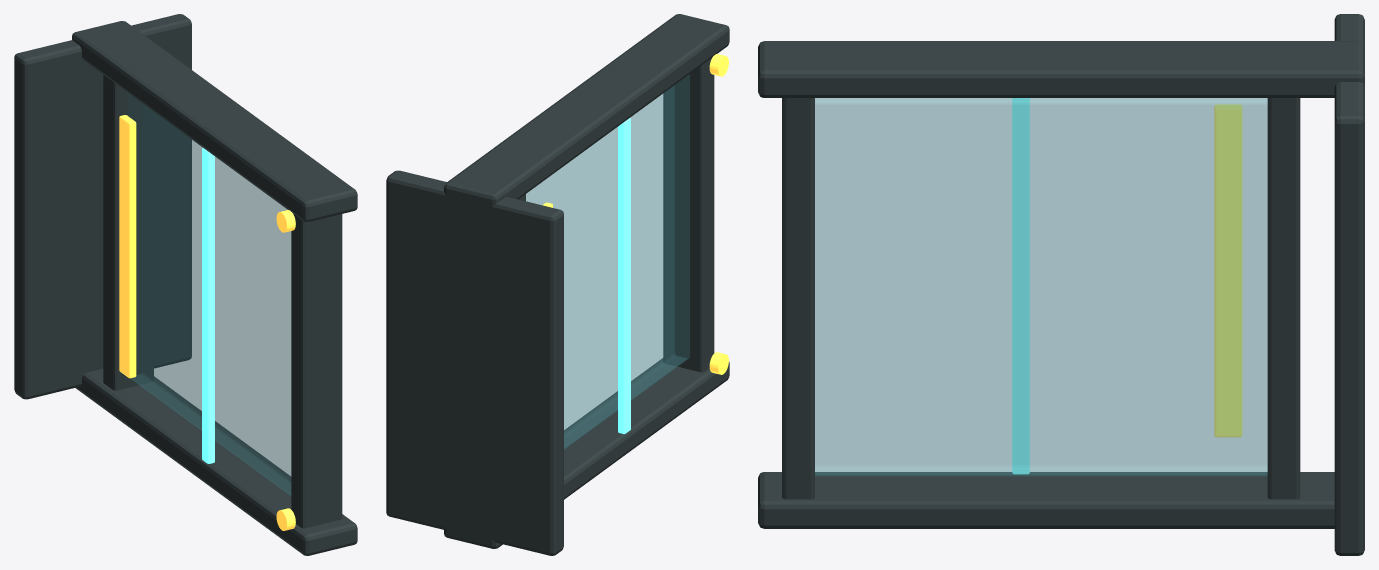
Rendered from glass_safety_gate.glb.
3 renders of one model, left to right at view 1: azimuth 30°, elevation 25°; view 2: azimuth 150°, elevation 25°; view 3: azimuth 270°, elevation 25°, orthographic. The views are drawn at different scales.
Parts seen in each view (by area): view 1: gate_floor_threshold, gate_glass, gate_post_+0, gate_rail_1.12, gate_post_-0, gate_rail_0.16, gate_warning_band, gate_scan_band; view 2: gate_floor_threshold, gate_glass, gate_post_+0, gate_rail_1.12, gate_post_-0, gate_scan_band; view 3: gate_glass, gate_post_+0, gate_post_-0, gate_floor_threshold, gate_rail_0.16, gate_rail_1.12, gate_warning_band, gate_scan_band.
Boxes of the visible parts, box(x1,y1,x2,y2) form: gate_floor_threshold: box(14, 14, 191, 399); gate_glass: box(127, 93, 291, 495); gate_post_+0: box(72, 21, 357, 222); gate_rail_1.12: box(291, 214, 342, 528); gate_post_-0: box(75, 369, 357, 555); gate_rail_0.16: box(103, 75, 153, 390); gate_warning_band: box(119, 115, 136, 378); gate_scan_band: box(202, 148, 214, 463); gate_floor_threshold: box(386, 170, 563, 555); gate_glass: box(526, 74, 689, 449); gate_post_+0: box(444, 14, 729, 207); gate_rail_1.12: box(663, 58, 714, 372); gate_post_-0: box(444, 358, 729, 548); gate_scan_band: box(618, 118, 630, 433); gate_glass: box(815, 98, 1267, 476); gate_post_+0: box(758, 41, 1364, 97); gate_post_-0: box(758, 472, 1334, 528); gate_floor_threshold: box(1334, 14, 1364, 555); gate_rail_0.16: box(1267, 98, 1300, 499); gate_rail_1.12: box(782, 98, 814, 499); gate_warning_band: box(1214, 104, 1242, 437); gate_scan_band: box(1012, 98, 1029, 474).
Size of the model in its own units: 0.5 by 1 by 1.2.
